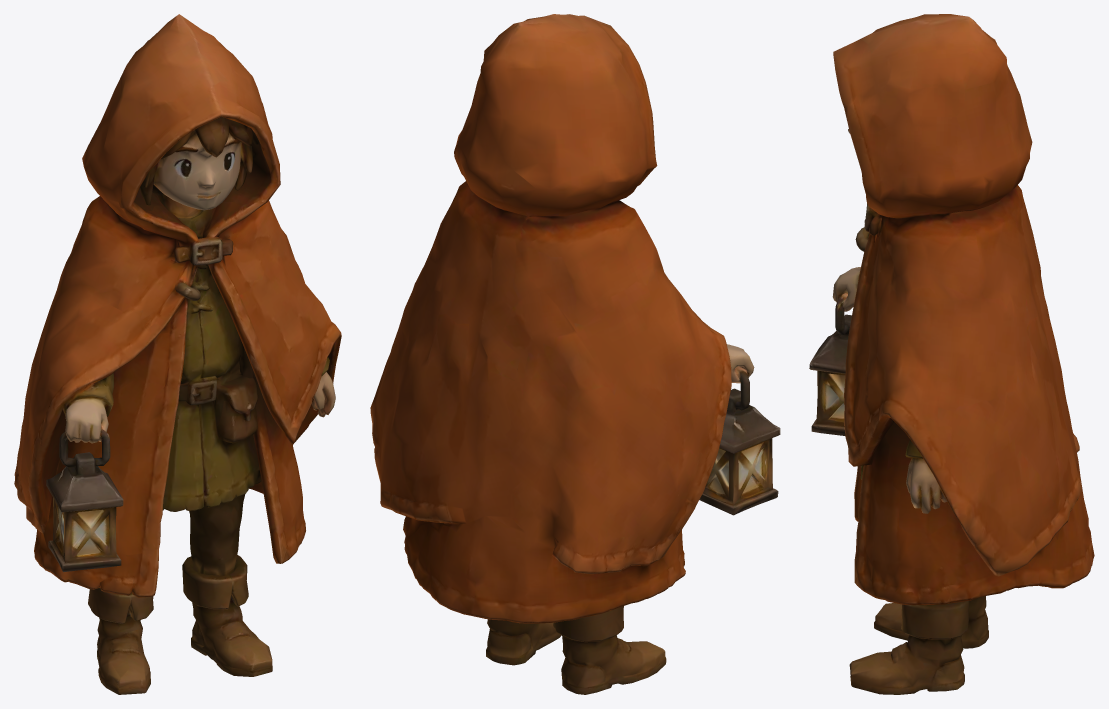
Rendered from chr_keeper_a_v1.glb.
3 renders of one model, left to right at view 1: azimuth 30°, elevation 25°; view 2: azimuth 150°, elevation 25°; view 3: azimuth 270°, elevation 25°, orthographic. The views are drawn at different scales.
Parts seen in each view (by area): view 1: tripo_node_8254826e-e7c7-41d9-a397-69b509c814eb; view 2: tripo_node_8254826e-e7c7-41d9-a397-69b509c814eb; view 3: tripo_node_8254826e-e7c7-41d9-a397-69b509c814eb.
Boxes of the visible parts, x1,y1,x2,y2 form: tripo_node_8254826e-e7c7-41d9-a397-69b509c814eb: (14,14,341,694); tripo_node_8254826e-e7c7-41d9-a397-69b509c814eb: (370,14,780,694); tripo_node_8254826e-e7c7-41d9-a397-69b509c814eb: (809,14,1094,694).
Size of the model in its own units: 0.5421 by 0.9797 by 0.3868.
1 material, 1 textured.
